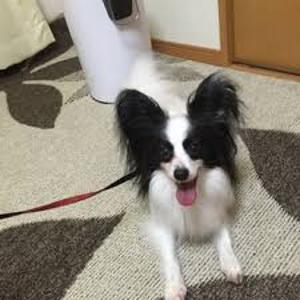yell: (113, 52, 243, 300)
